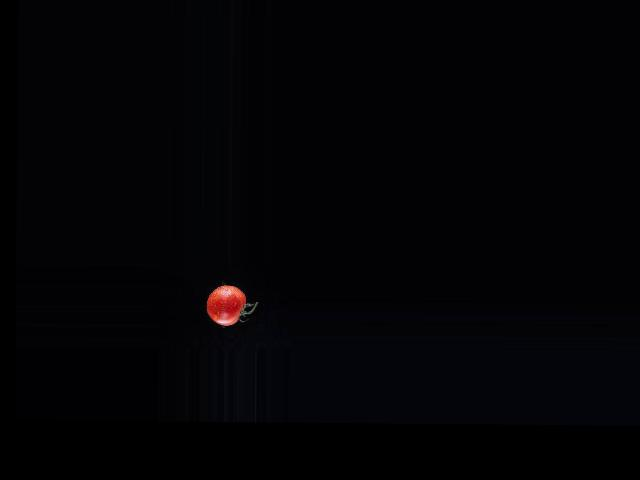tomato: (206, 284, 246, 325)
